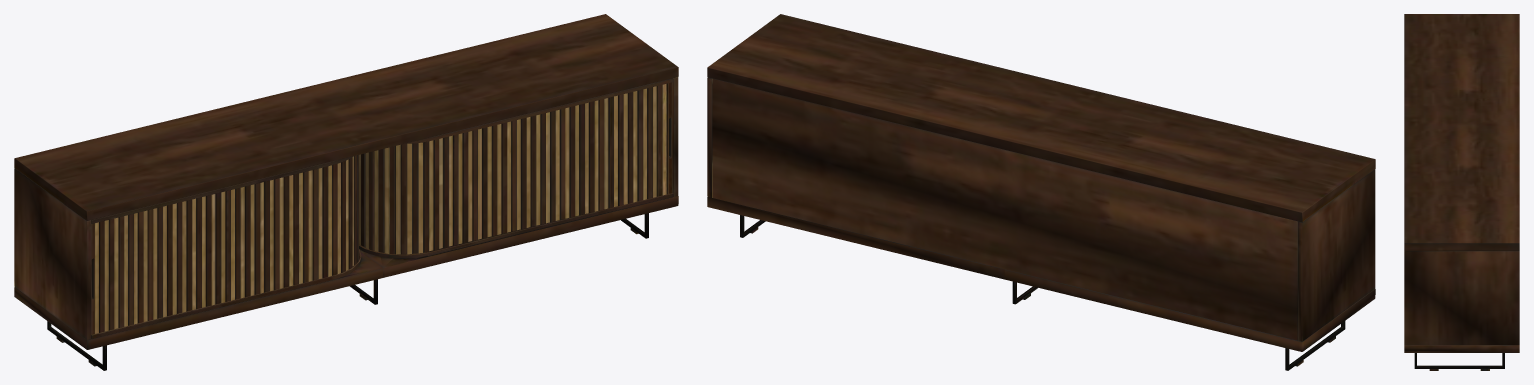
The model's file is modern_wooden_cabinet.lite.glb.
3 views of the same model, side by side, from view 1: azimuth 30°, elevation 25°; view 2: azimuth 150°, elevation 25°; view 3: azimuth 270°, elevation 25° (orthographic). The views are drawn at different scales.
Parts seen in each view (by area): view 1: modern_wooden_cabinet_body, modern_wooden_cabinet_door_l; view 2: modern_wooden_cabinet_body; view 3: modern_wooden_cabinet_body.
Part boxes in pixels (x1,y1,x2,y2): modern_wooden_cabinet_body: [14, 14, 678, 370]; modern_wooden_cabinet_door_l: [91, 82, 672, 334]; modern_wooden_cabinet_body: [707, 14, 1375, 370]; modern_wooden_cabinet_body: [1404, 14, 1519, 370].
Size of the model in its own units: 2.44 by 0.6801 by 0.5201.
1 material, 1 textured.
